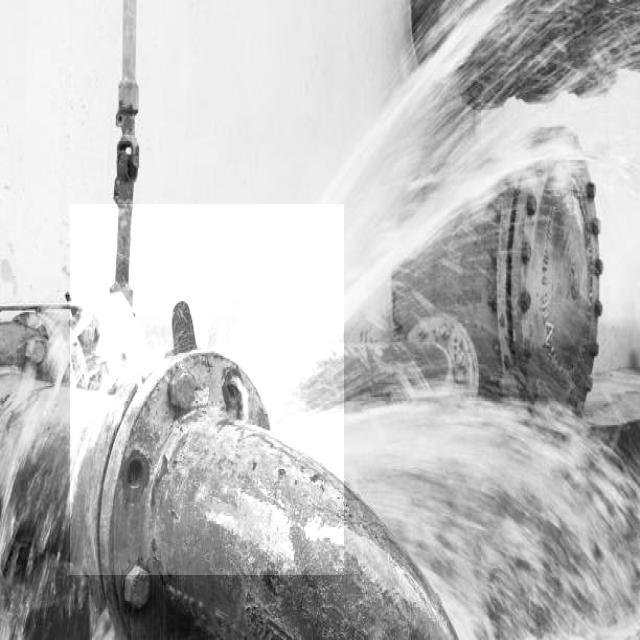corrosion: (92, 250, 345, 527)
